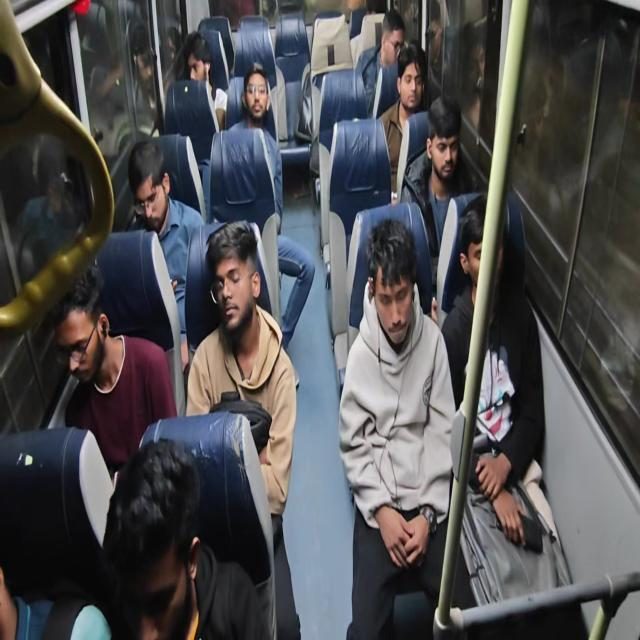person: (102, 449, 216, 640), (368, 215, 428, 360), (53, 251, 109, 404), (206, 224, 260, 356), (118, 133, 172, 236), (421, 99, 463, 194), (462, 202, 506, 290), (244, 64, 276, 138), (181, 22, 217, 85), (396, 42, 427, 114), (378, 6, 413, 61)
